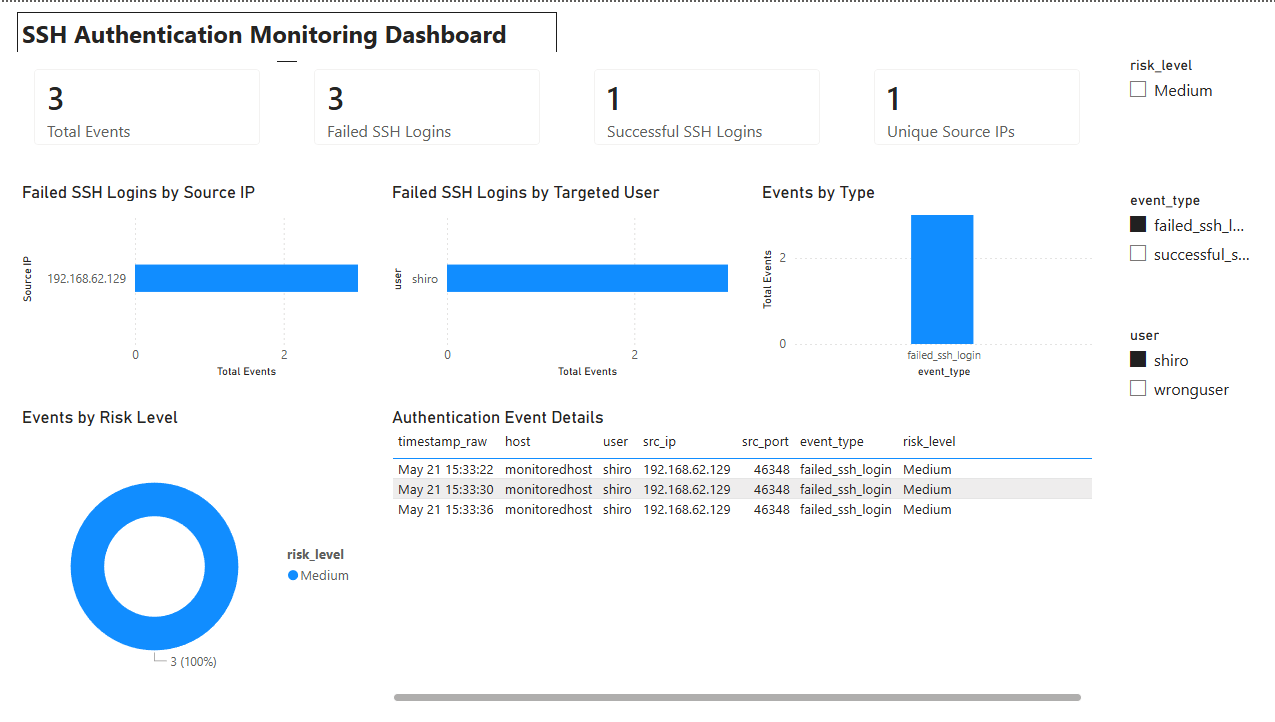

The dashboard page shown, as its layout file describes it:
{"tool":"powerbi","page":{"name":"Security Overview","canvas":[1280,720],"ordinal":0},"visuals":[{"type":"clusteredBarChart","title":"Failed SSH Logins by Source IP","fields":{"Category":["security_events_for_powerbi.src_ip"],"Y":["security_events_for_powerbi.Total Events"]},"box":[20,180,350,200],"z":0},{"type":"clusteredBarChart","title":"Failed SSH Logins by Targeted User","fields":{"Category":["security_events_for_powerbi.user"],"Y":["security_events_for_powerbi.Total Events"]},"box":[390,180,350,200],"z":1000},{"type":"donutChart","title":"Events by Risk Level","fields":{"Category":["security_events_for_powerbi.risk_level"],"Y":["security_events_for_powerbi.Total Events"]},"box":[20,405,350,300],"z":2000},{"type":"clusteredColumnChart","title":"Events by Type","fields":{"Y":["security_events_for_powerbi.Total Events"],"Category":["security_events_for_powerbi.event_type"]},"box":[760,180,340,200],"z":3000},{"type":"tableEx","title":"Authentication Event Details","fields":{"Values":["security_events_for_powerbi.timestamp_raw","security_events_for_powerbi.host","security_events_for_powerbi.user","security_events_for_powerbi.src_ip","security_events_for_powerbi.src_port","security_events_for_powerbi.event_type","security_events_for_powerbi.risk_level"]},"box":[390,405,710,300],"z":4000},{"type":"slicer","fields":{"Values":["security_events_for_powerbi.risk_level"]},"box":[1120,50,140,120],"z":5000},{"type":"slicer","fields":{"Values":["security_events_for_powerbi.event_type"]},"box":[1120,185,140,120],"z":6000},{"type":"slicer","fields":{"Values":["security_events_for_powerbi.user"]},"box":[1120,320,140,120],"z":7000},{"type":"textbox","box":[20,10,540,50],"z":8000},{"type":"cardVisual","fields":{"Data":["security_events_for_powerbi.Total Events"]},"box":[20,50,260,110],"z":9000},{"type":"cardVisual","fields":{"Data":["security_events_for_powerbi.FailedSSH_Logins"]},"box":[300,50,260,110],"z":10000},{"type":"cardVisual","fields":{"Data":["security_events_for_powerbi.SuccessfulSSH_Logins"]},"box":[580,50,260,110],"z":11000},{"type":"cardVisual","fields":{"Data":["security_events_for_powerbi.Unique Source IPs"]},"box":[860,50,240,110],"z":12000}]}

Visuals, with their boxes in screenshot pixels (x1, y1, x2, y2), scaled from the page's 1280x720 canvas onto the 1275x722 screenshot:
"Failed SSH Logins by Source IP" clusteredBarChart: [20,180,369,381]
"Failed SSH Logins by Targeted User" clusteredBarChart: [388,180,737,381]
"Events by Risk Level" donutChart: [20,406,369,707]
"Events by Type" clusteredColumnChart: [757,180,1096,381]
"Authentication Event Details" tableEx: [388,406,1096,707]
slicer - security_events_for_powerbi.risk_level: [1116,50,1255,170]
slicer - security_events_for_powerbi.event_type: [1116,186,1255,306]
slicer - security_events_for_powerbi.user: [1116,321,1255,441]
textbox: [20,10,558,60]
cardVisual - security_events_for_powerbi.Total Events: [20,50,279,160]
cardVisual - security_events_for_powerbi.FailedSSH_Logins: [299,50,558,160]
cardVisual - security_events_for_powerbi.SuccessfulSSH_Logins: [578,50,837,160]
cardVisual - security_events_for_powerbi.Unique Source IPs: [857,50,1096,160]
